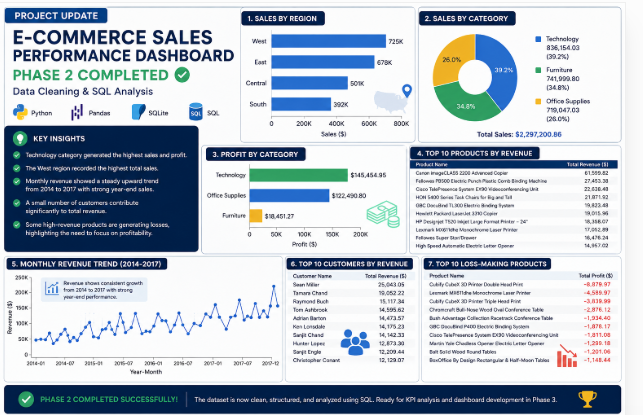

Layout of this report page (visuals, bound fields, positions):
{"tool":"powerbi","page":{"name":"Page 1","canvas":[1300,1200],"ordinal":0},"visuals":[{"type":"cardVisual","fields":{"Data":["superstore_clean.Total Revenue"]},"box":[0,183.3,163.6,246.5],"z":0},{"type":"cardVisual","fields":{"Data":["superstore_clean.Total Profit"]},"box":[147.5,182.5,280,245],"z":1000},{"type":"cardVisual","fields":{"Data":["superstore_clean.Profit Margin"]},"box":[427.5,182.5,282.5,247.5],"z":2000},{"type":"cardVisual","fields":{"Data":["superstore_clean.Average Order Value"]},"box":[705,182.5,280,247.5],"z":3000},{"type":"cardVisual","fields":{"Data":["superstore_clean.Average Discount"]},"box":[985,182.5,280,247.5],"z":4000},{"type":"lineChart","fields":{"Y":["superstore_clean.Total Revenue"],"Category":["superstore_clean.Order Date.Variation.Date Hierarchy.Year","superstore_clean.Order Date.Variation.Date Hierarchy.Month"]},"box":[0,440.7,586.9,281.5],"z":5000},{"type":"clusteredBarChart","fields":{"Category":["superstore_clean.Region"],"Y":["superstore_clean.Total Revenue"]},"box":[586.9,440.7,676.4,281.5],"z":6000},{"type":"clusteredBarChart","title":"Sales by Category","fields":{"Category":["superstore_clean.Category"],"Y":["superstore_clean.Total Revenue"]},"box":[0,722.2,586.9,226.9],"z":7000},{"type":"clusteredBarChart","title":"Profit by Segment","fields":{"Category":["superstore_clean.Segment"],"Y":["superstore_clean.Total Profit"]},"box":[586.9,730.9,676.4,218.2],"z":8000},{"type":"clusteredBarChart","fields":{"Category":["superstore_clean.Product Name"],"Y":["superstore_clean.Total Revenue"]},"box":[0,949.1,586.9,250.9],"z":9000},{"type":"clusteredBarChart","fields":{"Category":["superstore_clean.Product Name"],"Y":["Sum(superstore_clean.Profit)"]},"box":[586.9,949.1,676.4,250.9],"z":10000},{"type":"slicer","fields":{"Values":["superstore_clean.Year"]},"box":[0,89.5,427.6,93.8],"z":11000},{"type":"slicer","fields":{"Values":["superstore_clean.Region"]},"box":[427.6,89.5,416.7,93.8],"z":12000},{"type":"slicer","fields":{"Values":["superstore_clean.Category"]},"box":[844.4,89.5,403.6,93.8],"z":13000},{"type":"textbox","box":[0,0,1248,89.5],"z":14000}]}

Visuals, with their boxes on the page's 1300x1200 design canvas (x1, y1, x2, y2). These are canvas units, not pixel positions in the 643x415 screenshot, which may show the page scaled, cropped or inside an application window:
cardVisual - superstore_clean.Total Revenue: [x1=0, y1=183, x2=164, y2=430]
cardVisual - superstore_clean.Total Profit: [x1=148, y1=182, x2=428, y2=428]
cardVisual - superstore_clean.Profit Margin: [x1=428, y1=182, x2=710, y2=430]
cardVisual - superstore_clean.Average Order Value: [x1=705, y1=182, x2=985, y2=430]
cardVisual - superstore_clean.Average Discount: [x1=985, y1=182, x2=1265, y2=430]
lineChart - superstore_clean.Total Revenue x superstore_clean.Order Date.Variation.Date Hierarchy.Year: [x1=0, y1=441, x2=587, y2=722]
clusteredBarChart - superstore_clean.Region x superstore_clean.Total Revenue: [x1=587, y1=441, x2=1263, y2=722]
"Sales by Category" clusteredBarChart: [x1=0, y1=722, x2=587, y2=949]
"Profit by Segment" clusteredBarChart: [x1=587, y1=731, x2=1263, y2=949]
clusteredBarChart - superstore_clean.Product Name x superstore_clean.Total Revenue: [x1=0, y1=949, x2=587, y2=1200]
clusteredBarChart - superstore_clean.Product Name x Sum(superstore_clean.Profit): [x1=587, y1=949, x2=1263, y2=1200]
slicer - superstore_clean.Year: [x1=0, y1=90, x2=428, y2=183]
slicer - superstore_clean.Region: [x1=428, y1=90, x2=844, y2=183]
slicer - superstore_clean.Category: [x1=844, y1=90, x2=1248, y2=183]
textbox: [x1=0, y1=0, x2=1248, y2=90]
